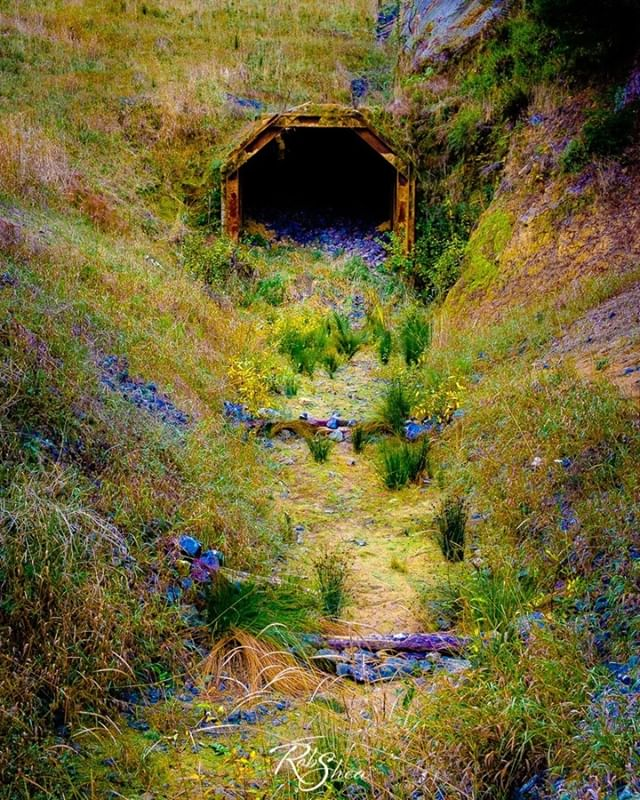tunnel: (225, 105, 434, 277)
vegetation: (1, 1, 616, 780)
